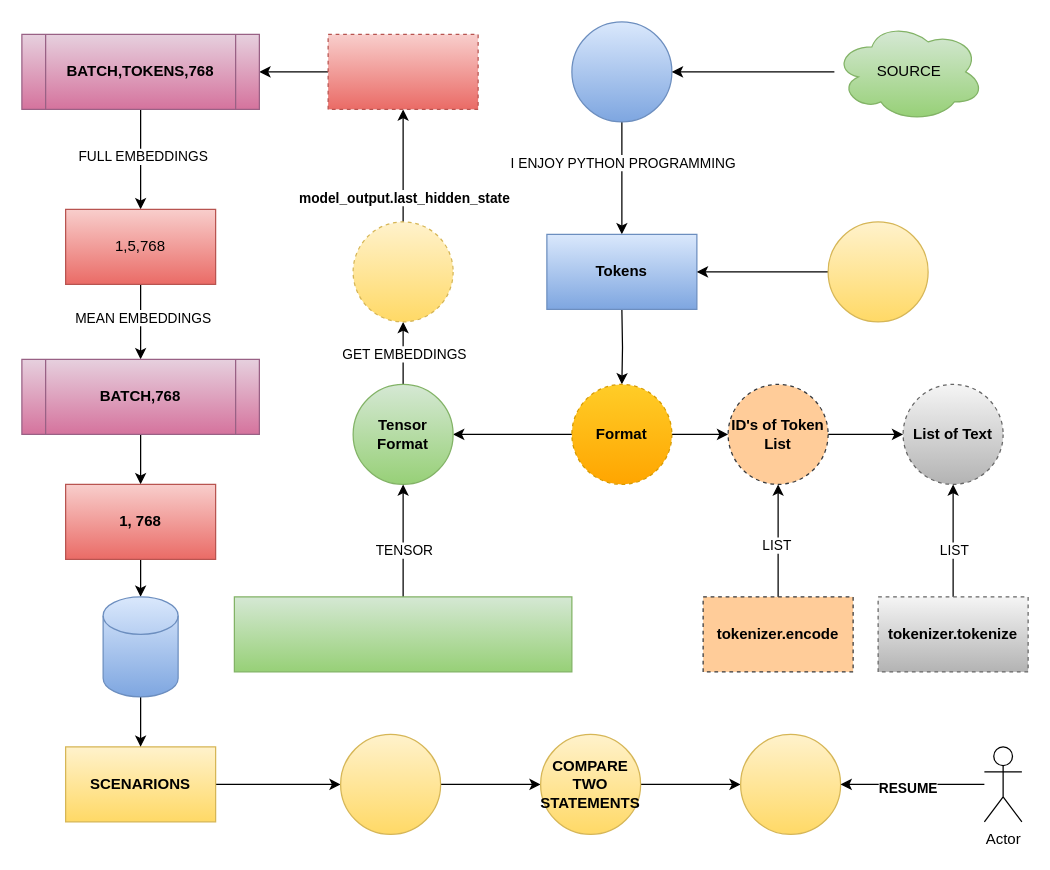
Some shapes in this 1050 by 870 pixel diagram are drawn without their labels. Each missing label, with the centre of its shape:
EMBEDDINGS: point (402, 71)
FIND CLOSESET MATCH: point (390, 783)
FIND DUPLICATES: point (790, 783)
GPT2 Model: point (402, 271)
GPT2 Tokenizer: point (877, 271)
Text: point (621, 71)
tokenizer(input_text, return_tensors="pt"): point (402, 634)
Vector Database: point (140, 646)
